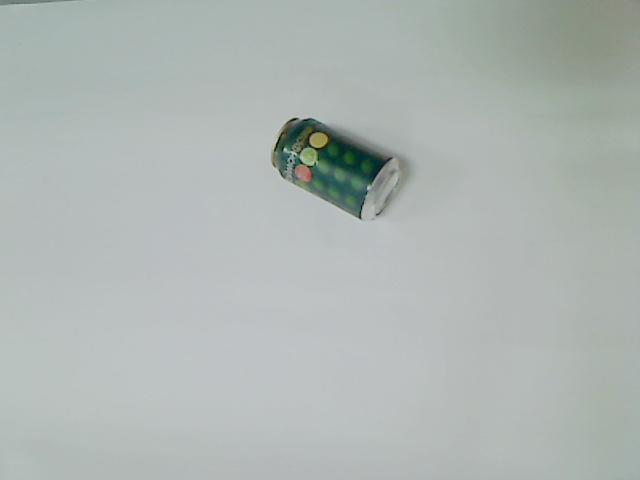can: (268, 116, 404, 224)
